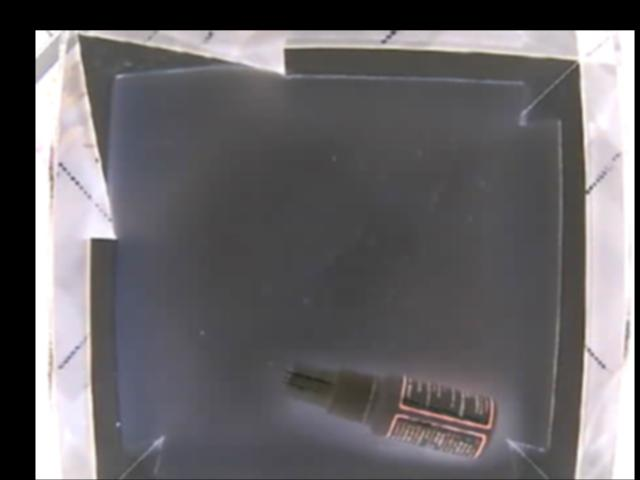Bottle: (285, 361, 495, 458)
